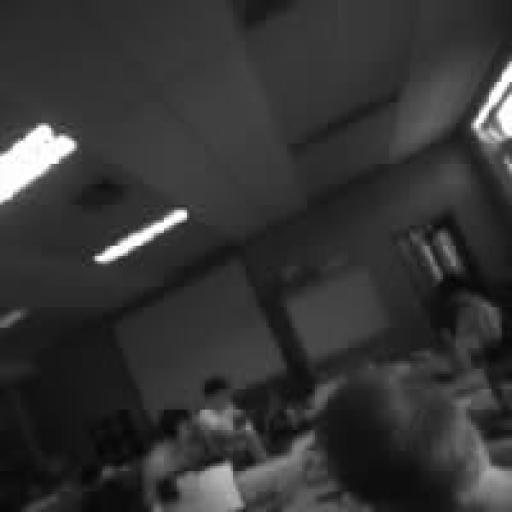human: (318, 369, 511, 511), (436, 277, 511, 409), (141, 410, 209, 506), (198, 377, 266, 465)
